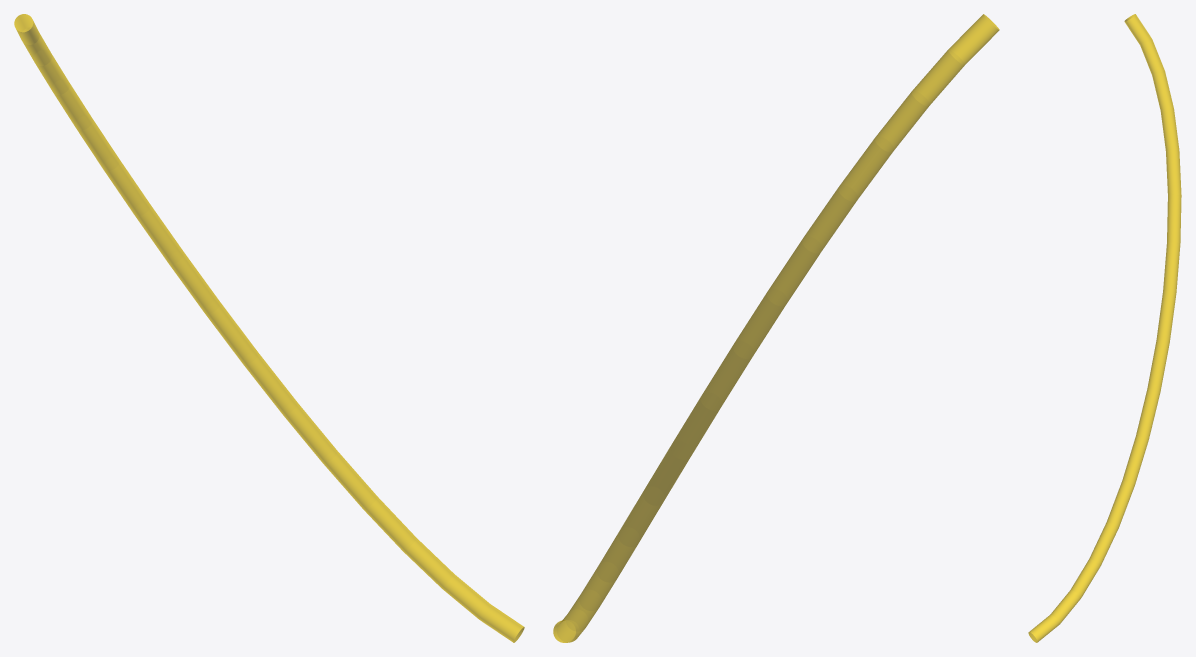
Rendered from Event_84804159_track_47.fbx.
The picture shows the model from 3 angles, left to right: view 1: azimuth 30°, elevation 25°; view 2: azimuth 150°, elevation 25°; view 3: azimuth 270°, elevation 25°; orthographic projection. The views are drawn at different scales.
Parts seen in each view (by area): view 1: Model; view 2: Model; view 3: Model.
Part boxes in pixels (bbox=[...]): Model: bbox=[14, 14, 524, 642]; Model: bbox=[553, 14, 999, 642]; Model: bbox=[1028, 14, 1181, 642].
Bounding box in the file's own units: 1.06 × 1.56 × 0.4479.
